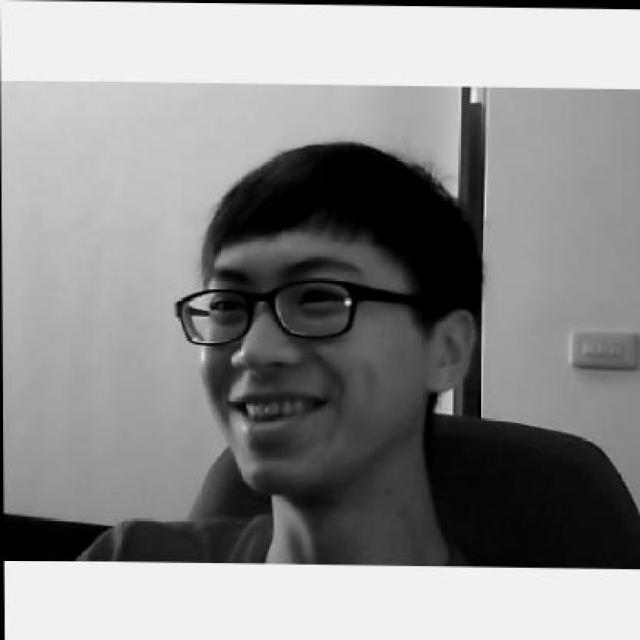attentif: (167, 138, 476, 494)
